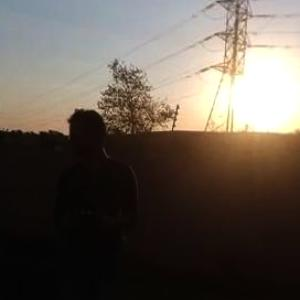follow: (44, 106, 145, 299)
